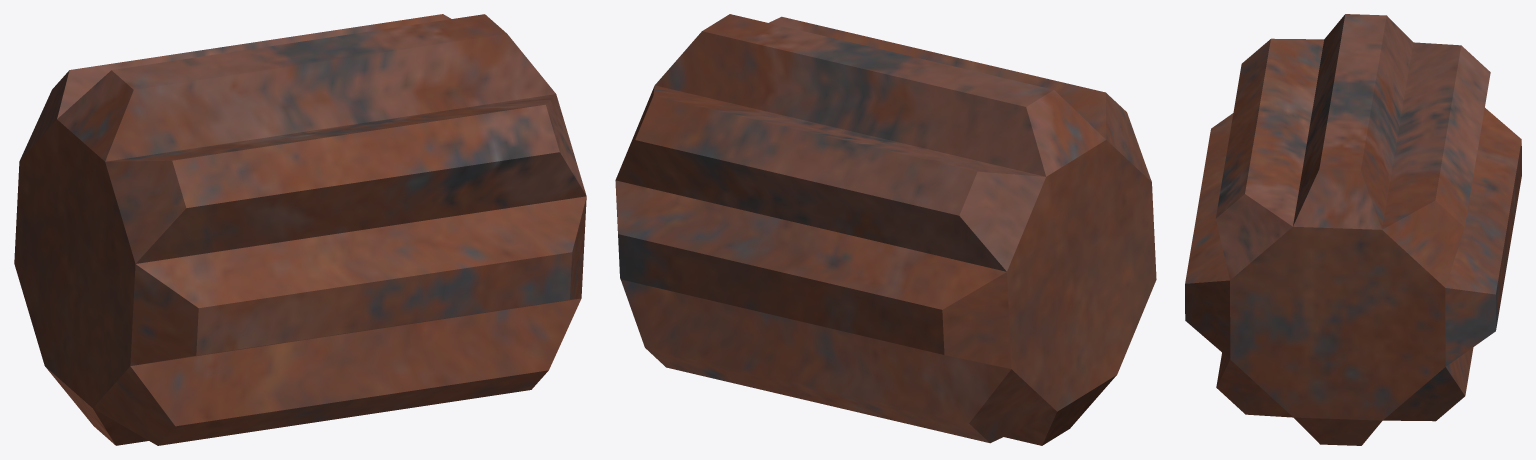
File: walker_leg_posed.gltf
3 renders of one model, left to right at view 1: azimuth 30°, elevation 25°; view 2: azimuth 150°, elevation 25°; view 3: azimuth 270°, elevation 25°, orthographic. The views are drawn at different scales.
Visible parts, largest first — view 1: foot_inner_gear_B_DRIVEN_LOD0; view 2: foot_inner_gear_B_DRIVEN_LOD0; view 3: foot_inner_gear_B_DRIVEN_LOD0.
Part boxes in pixels (box(x1,y1,x2,y2)): foot_inner_gear_B_DRIVEN_LOD0: box(14, 14, 586, 445); foot_inner_gear_B_DRIVEN_LOD0: box(615, 14, 1156, 445); foot_inner_gear_B_DRIVEN_LOD0: box(1185, 14, 1521, 445).
Size of what is drawn, in the model's own units: 0.4049 by 0.3161 by 0.3242.
1 material, 1 textured.
